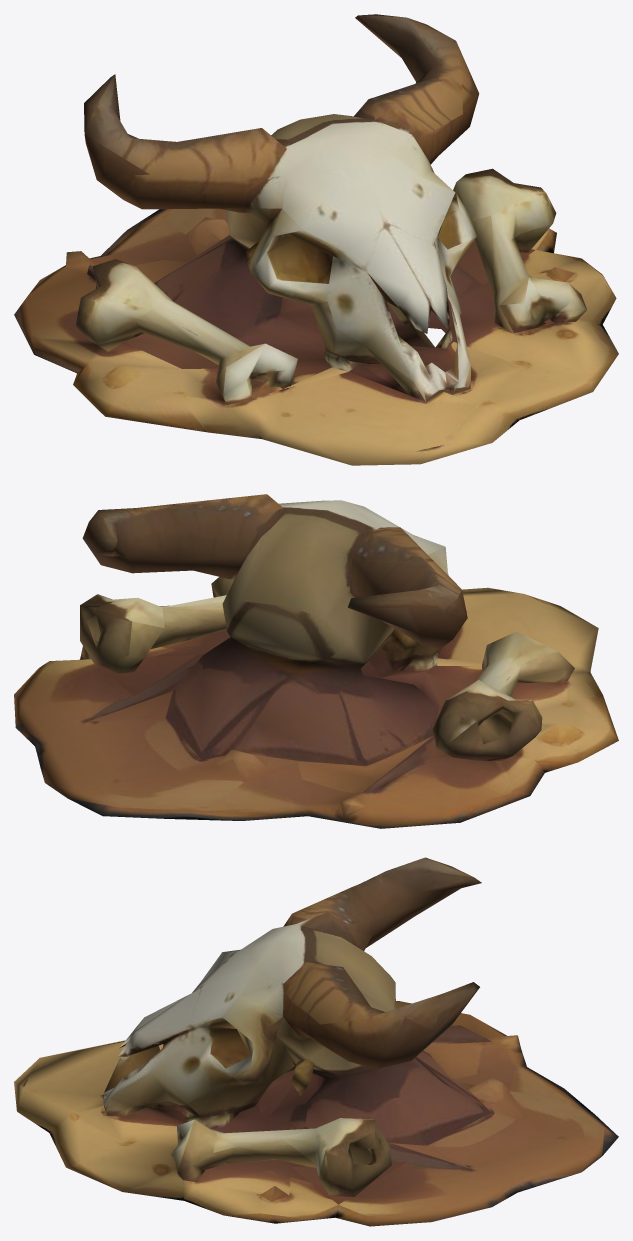
File: bone_pile.glb
3 views of the same model, one above another, from view 1: azimuth 30°, elevation 25°; view 2: azimuth 150°, elevation 25°; view 3: azimuth 270°, elevation 25° (orthographic). The views are drawn at different scales.
Parts seen in each view (by area): view 1: geometry_0; view 2: geometry_0; view 3: geometry_0.
Part boxes in pixels (<box>): geometry_0: <box>14,14,618,465</box>; geometry_0: <box>14,494,618,828</box>; geometry_0: <box>14,857,618,1226</box>.
Size of the model in its own units: 1.68 by 0.6522 by 1.9.
Materials: 1 (1 with a texture image).
